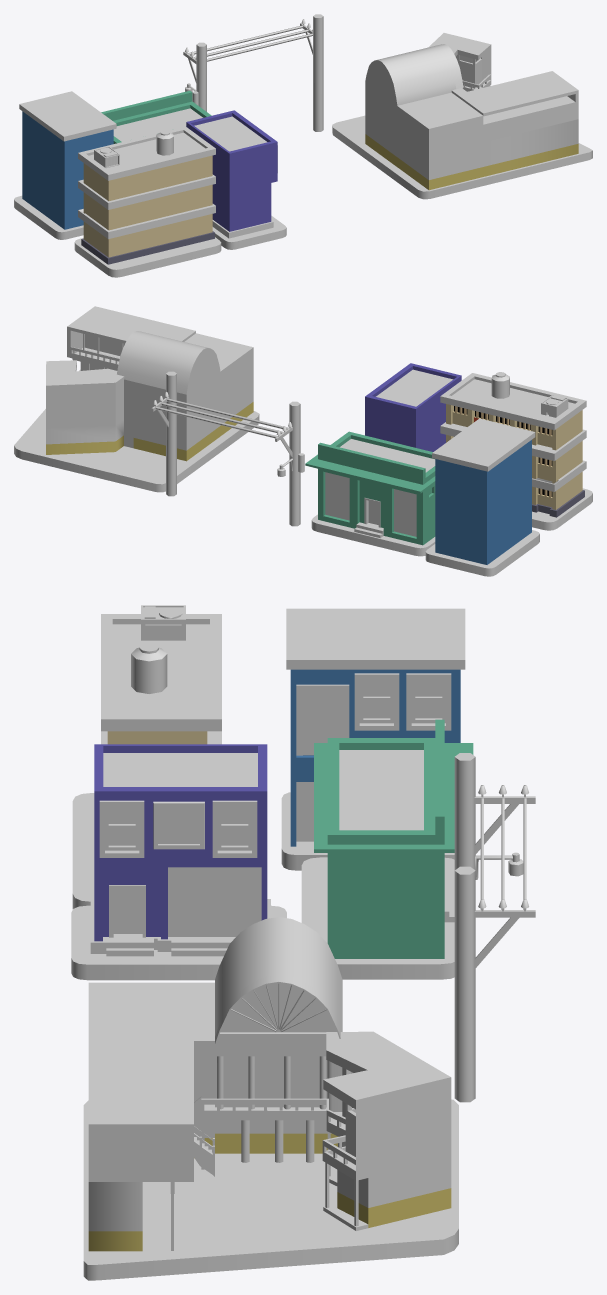
Rendered from benson_m.fbx.
3 views of the same model, one above another, from view 1: azimuth 30°, elevation 25°; view 2: azimuth 150°, elevation 25°; view 3: azimuth 270°, elevation 25° (orthographic). The views are drawn at different scales.
Parts seen in each view (by area): view 1: benson_m; view 2: benson_m; view 3: benson_m.
Boxes of the visible parts, box(x1,y1,x2,y2) form: benson_m: box(14, 14, 592, 277); benson_m: box(14, 306, 592, 576); benson_m: box(71, 605, 535, 1280).
Bounding box in the file's own units: 3258 × 751 × 1350.
